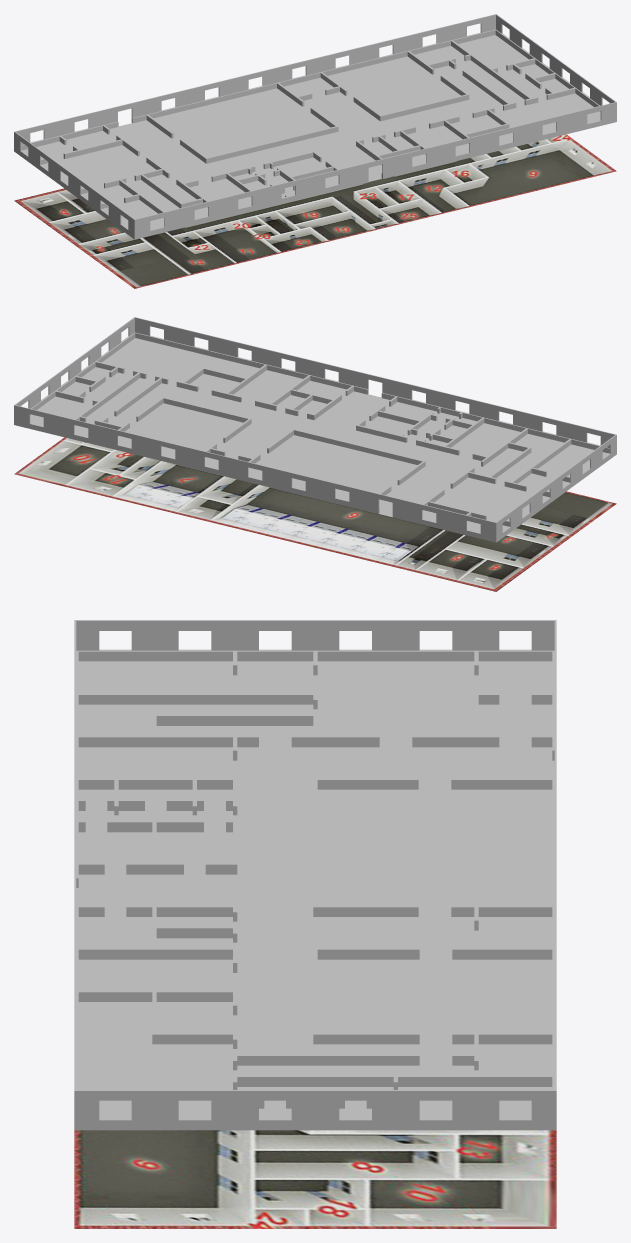
Rendered from Hatchery.fbx.
3 views of the same model, one above another, from view 1: azimuth 30°, elevation 25°; view 2: azimuth 150°, elevation 25°; view 3: azimuth 270°, elevation 25° (orthographic). The views are drawn at different scales.
Visible parts, largest first — view 1: ref, Hatchery, Room 00, Room 06, Room 07, Room 03, Room 09, Room 10, Room 08, Room 19, Room 14, Room 12 (+13 smaller); view 2: ref, Hatchery, Room 00, Room 06, Room 09, Room 07, Room 03, Room 12, Room 11, Room 14, Room 19, Room 01 (+12 smaller); view 3: Room 00, ref, Room 06, Hatchery, Room 07, Room 03, Room 09, Room 01, Room 12, Room 14, Room 19, Room 11 (+14 smaller).
Boxes of the visible parts, box(x1,y1,x2,y2) form: ref: box(14, 134, 616, 288); Hatchery: box(14, 14, 616, 239); Room 00: box(104, 60, 552, 197); Room 06: box(147, 82, 336, 158); Room 07: box(321, 51, 467, 115); Room 03: box(41, 139, 162, 190); Room 09: box(465, 88, 600, 144); Room 10: box(452, 29, 535, 72); Room 08: box(450, 54, 530, 107); Room 19: box(270, 152, 338, 187); Room 14: box(120, 174, 208, 219); Room 12: box(401, 120, 469, 155); ref: box(14, 437, 616, 591); Hatchery: box(14, 317, 616, 542); Room 00: box(78, 367, 487, 516); Room 06: box(248, 429, 423, 501); Room 09: box(95, 332, 265, 385); Room 07: box(118, 397, 249, 458); Room 03: box(428, 472, 549, 522); Room 12: box(227, 364, 309, 405); Room 11: box(445, 417, 526, 458); Room 14: box(490, 428, 570, 485); Room 19: box(357, 396, 439, 436); Room 01: box(531, 439, 609, 478); Room 00: box(76, 736, 554, 1107); ref: box(74, 1130, 556, 1228); Room 06: box(315, 779, 554, 916); Hatchery: box(74, 620, 556, 1130); Room 07: box(315, 948, 554, 1043); Room 03: box(315, 650, 476, 746); Room 09: box(76, 991, 234, 1119); Room 01: box(76, 650, 234, 693); Room 12: box(76, 948, 234, 991); Room 14: box(76, 694, 315, 736); Room 19: box(76, 821, 234, 873); Room 11: box(76, 736, 234, 778).
Size of the model in its own units: 1025 by 140 by 444.
